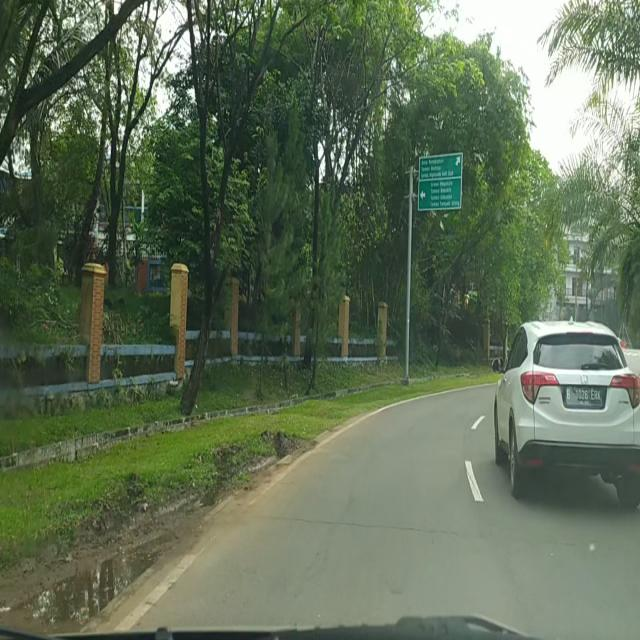Sewer Cover: (250, 508, 472, 540)
